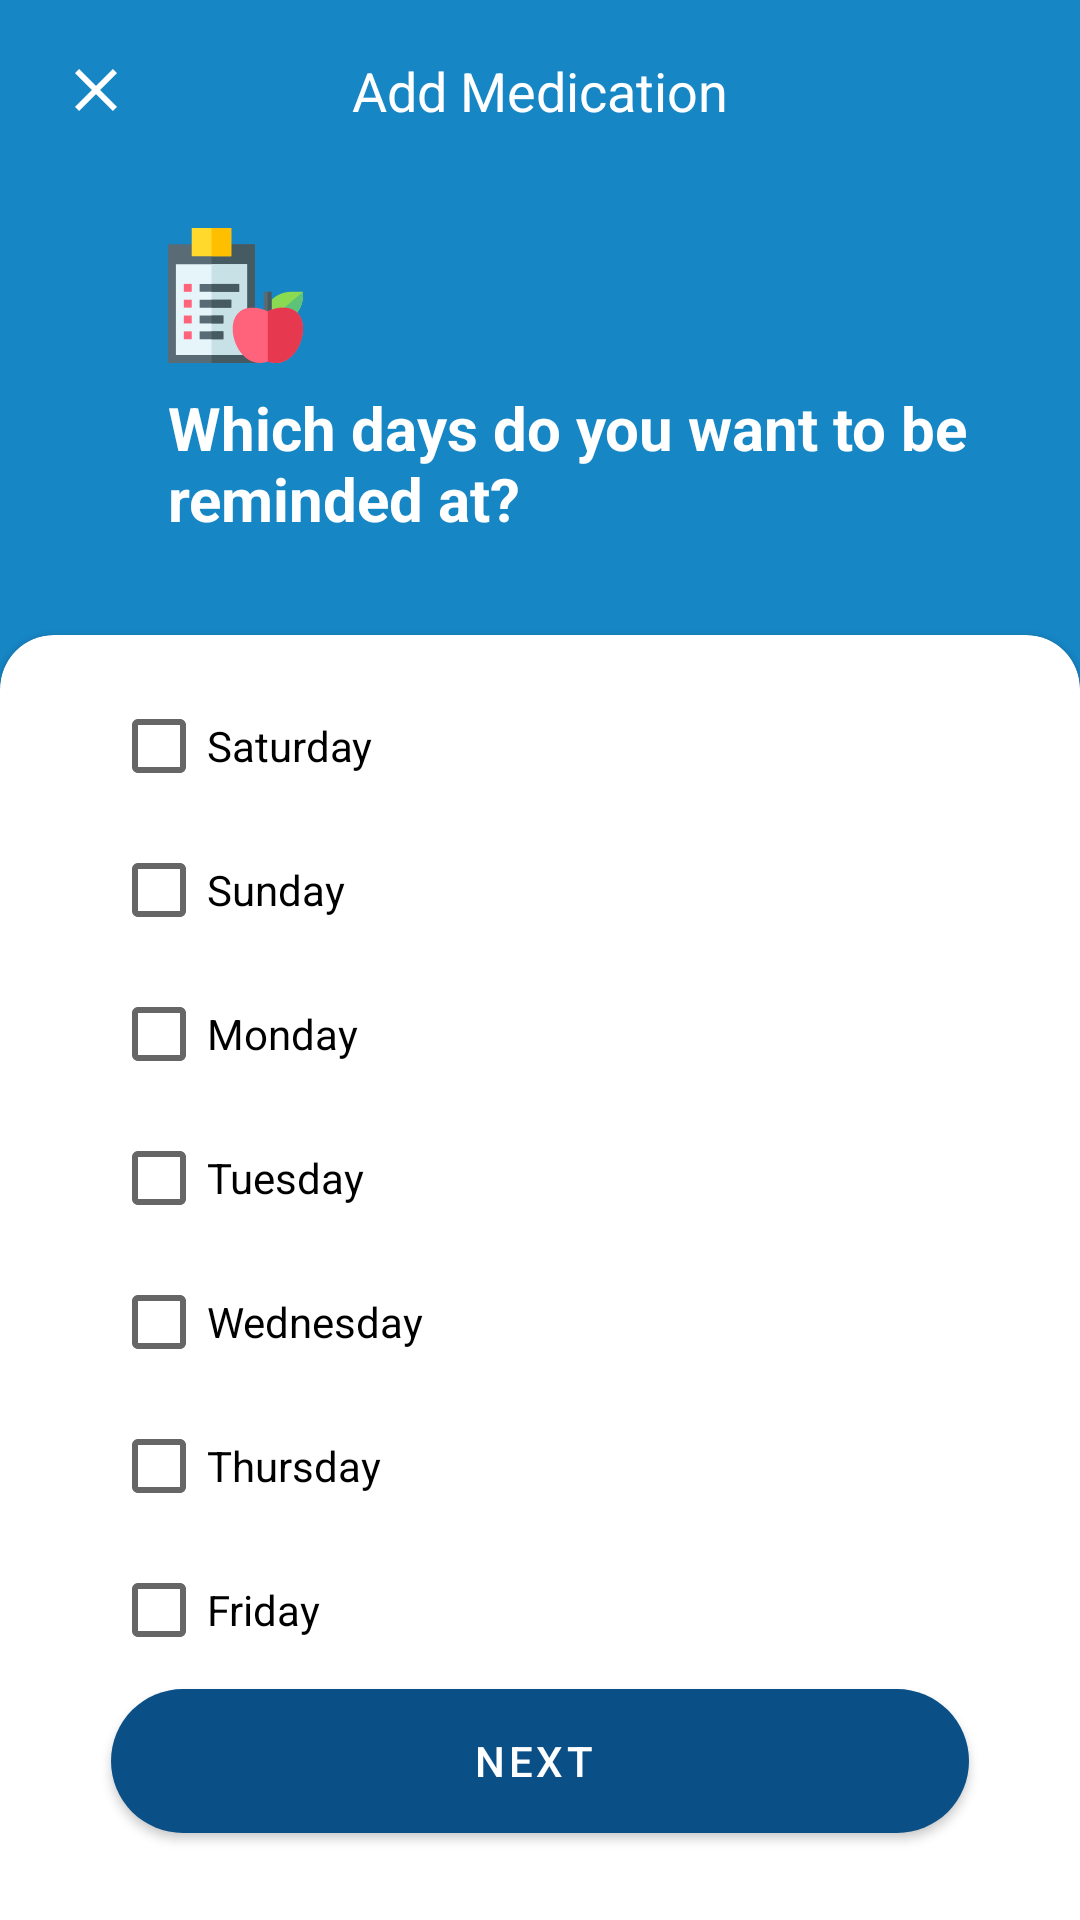

Icon click points for this 1080*1920 phone screenshot, format point (x, y):
Close: point (96, 90)
